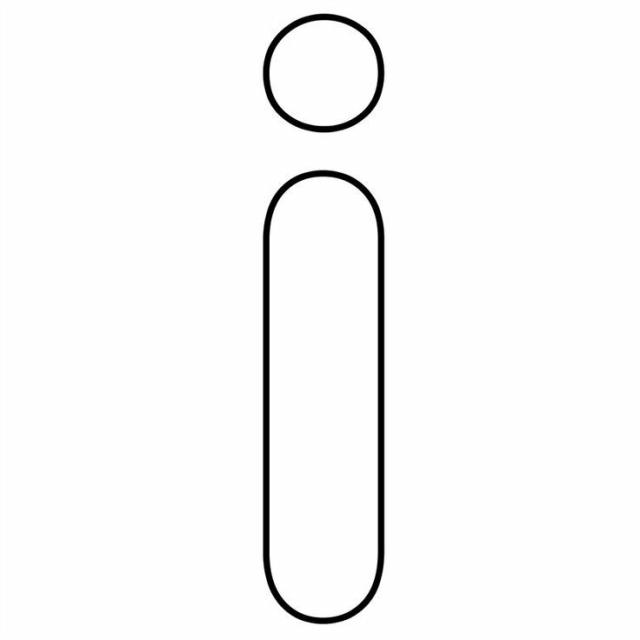I: (209, 160, 457, 634)
